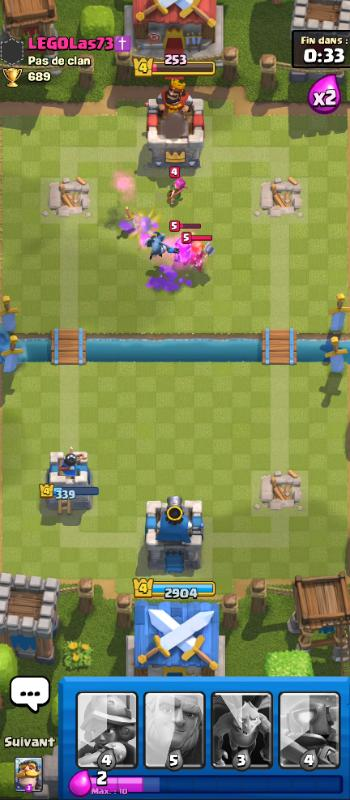archere: (165, 177, 189, 208)
gargouille: (147, 229, 175, 263)
valkyrie: (190, 242, 215, 275)
